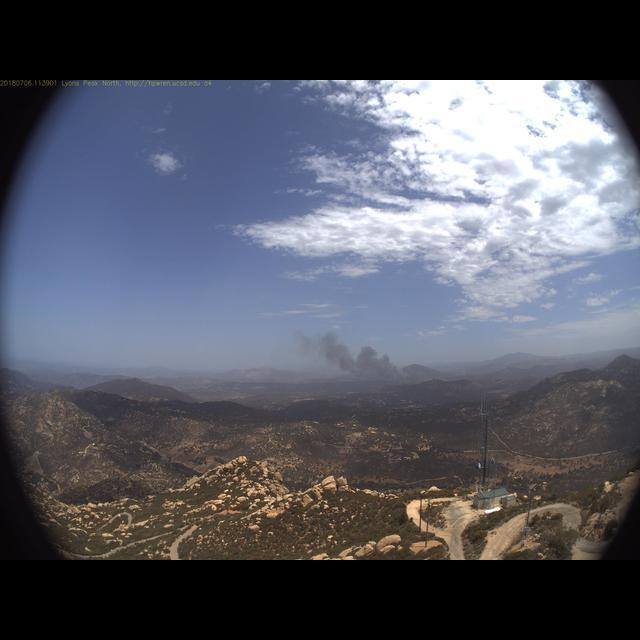Smoke: (288, 320, 430, 394)
